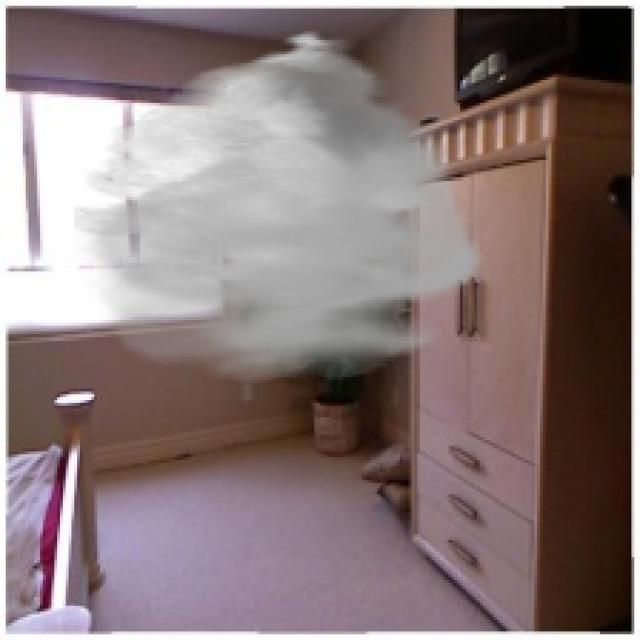smoke: (74, 28, 489, 383)
